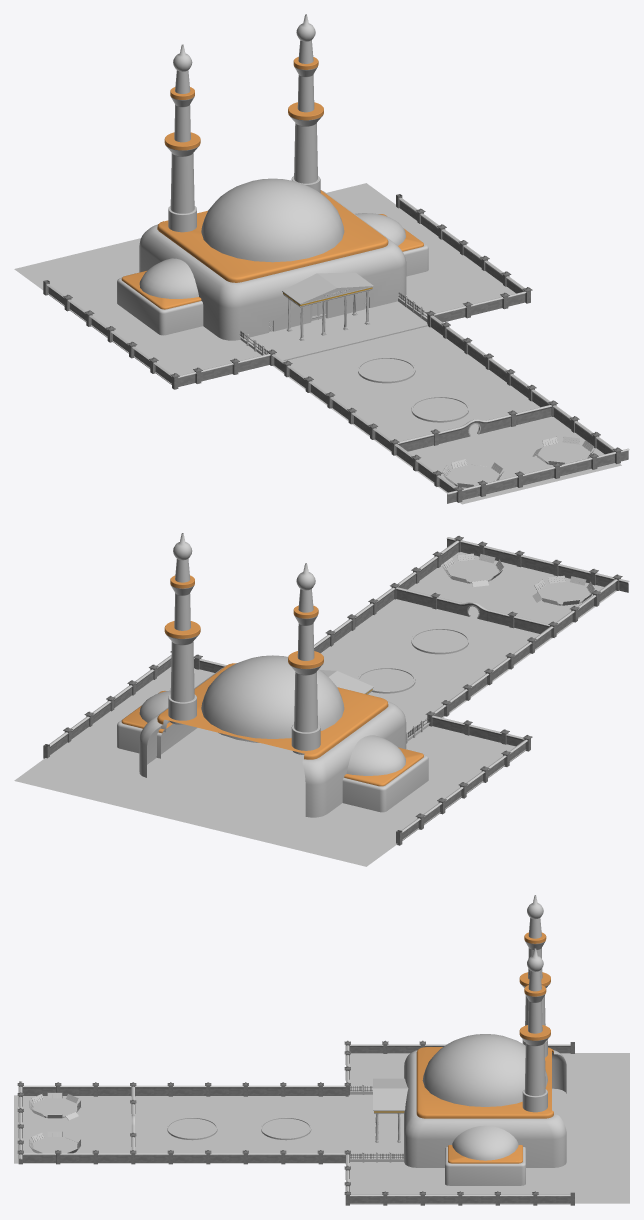
The model's file is horogs.fbx.
3 renders of one model, top to bottom at view 1: azimuth 30°, elevation 25°; view 2: azimuth 150°, elevation 25°; view 3: azimuth 270°, elevation 25°, orthographic. The views are drawn at different scales.
Visible parts, largest first — view 1: palace ground, palace walls, palace towers, chinese walls.007, chinese walls.009, landing pad, chinese walls.008, chinese walls.010, palace roof, chinese walls.005, pot, pot.001; view 2: palace ground, palace walls, palace towers, chinese walls.007, chinese walls.009, landing pad, chinese walls.010, chinese walls.005, chinese walls.008, pot.001, pot, palace roof (+1 smaller); view 3: palace ground, palace walls, chinese walls.007, palace towers, chinese walls.009, landing pad, palace roof, pot, pot.001, fence, chinese walls roof.020.
Boxes of the visible parts, <box> form: palace ground: <box>14,183,621,504</box>; palace walls: <box>117,178,428,340</box>; palace towers: <box>164,14,323,232</box>; chinese walls.007: <box>269,314,620,502</box>; chinese walls.009: <box>43,194,524,384</box>; landing pad: <box>442,436,594,487</box>; chinese walls.008: <box>172,290,530,389</box>; chinese walls.010: <box>447,448,629,503</box>; palace roof: <box>282,272,373,307</box>; chinese walls.005: <box>398,405,551,451</box>; pot: <box>358,357,415,383</box>; pot.001: <box>411,396,468,422</box>; palace ground: <box>14,552,616,866</box>; palace walls: <box>117,655,428,817</box>; palace towers: <box>164,533,323,754</box>; chinese walls.007: <box>314,539,620,726</box>; chinese walls.009: <box>43,655,527,845</box>; landing pad: <box>442,553,594,605</box>; chinese walls.010: <box>446,537,629,592</box>; chinese walls.005: <box>396,587,549,633</box>; chinese walls.008: <box>194,658,530,751</box>; pot.001: <box>411,628,468,654</box>; pot: <box>358,667,415,693</box>; palace roof: <box>320,670,373,694</box>; palace ground: <box>14,1053,629,1203</box>; palace walls: <box>404,1034,566,1185</box>; chinese walls.007: <box>18,1085,349,1164</box>; palace towers: <box>519,895,550,1112</box>; chinese walls.009: <box>350,1042,574,1205</box>; landing pad: <box>29,1092,81,1153</box>; palace roof: <box>373,1078,408,1113</box>; pot: <box>261,1117,311,1140</box>; pot.001: <box>167,1117,217,1140</box>; fence: <box>350,1084,403,1162</box>; chinese walls roof.020: <box>17,1082,323,1153</box>.
Size of what is drawn, in the model's own units: 8607 by 5492 by 14615.
